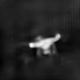plane: (26, 31, 62, 57)
